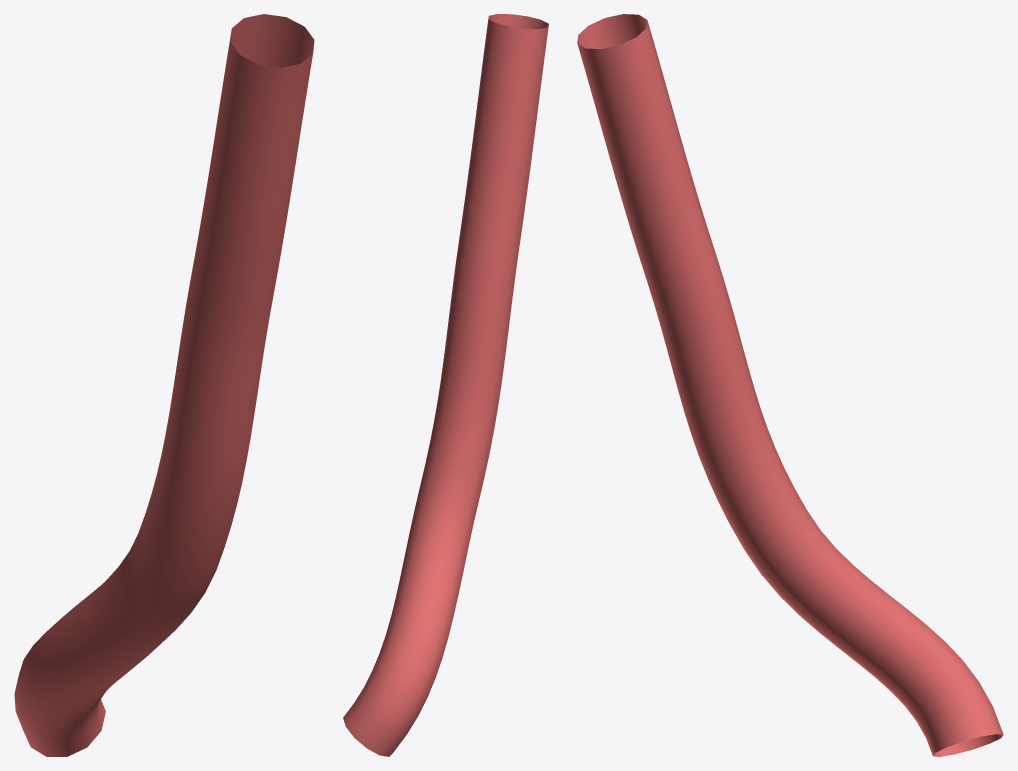
Rendered from Basilar_artery.glb.
3 renders of one model, left to right at view 1: azimuth 30°, elevation 25°; view 2: azimuth 150°, elevation 25°; view 3: azimuth 270°, elevation 25°, orthographic. The views are drawn at different scales.
Parts seen in each view (by area): view 1: Basilar_artery_BezierCurve.285; view 2: Basilar_artery_BezierCurve.285; view 3: Basilar_artery_BezierCurve.285.
Boxes of the visible parts, x1,y1,x2,y2 form: Basilar_artery_BezierCurve.285: [14, 14, 314, 756]; Basilar_artery_BezierCurve.285: [343, 14, 548, 756]; Basilar_artery_BezierCurve.285: [577, 14, 1003, 756].
Size of the model in its own units: 0.00289 by 0.0243 by 0.0126.
